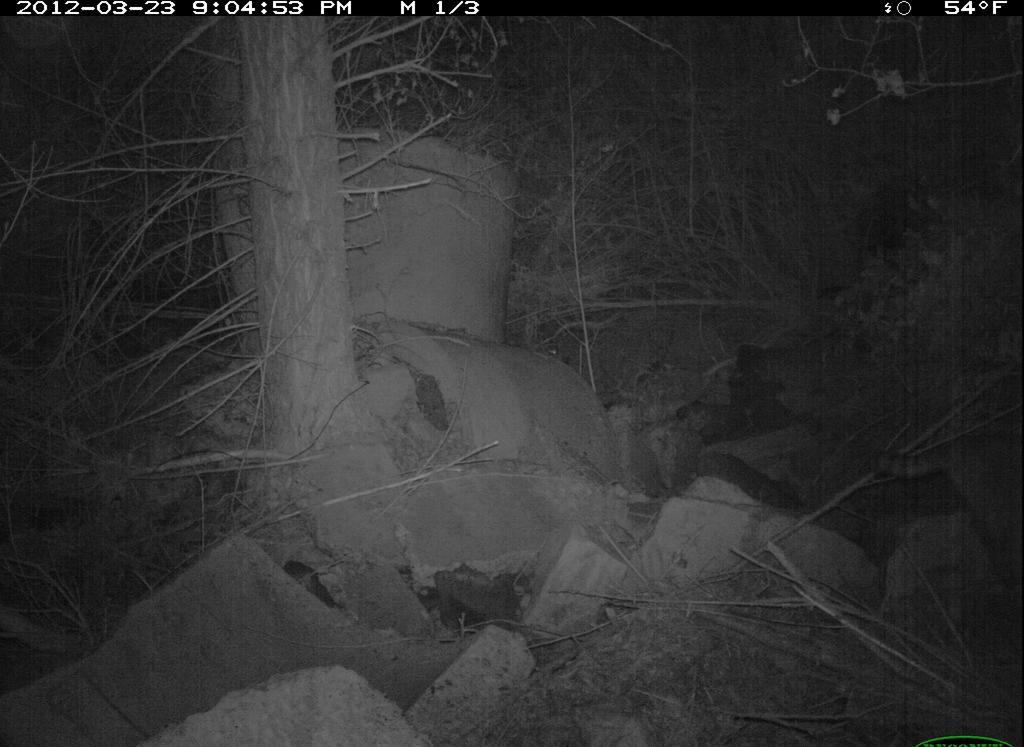raccoon: (867, 429, 1023, 593)
